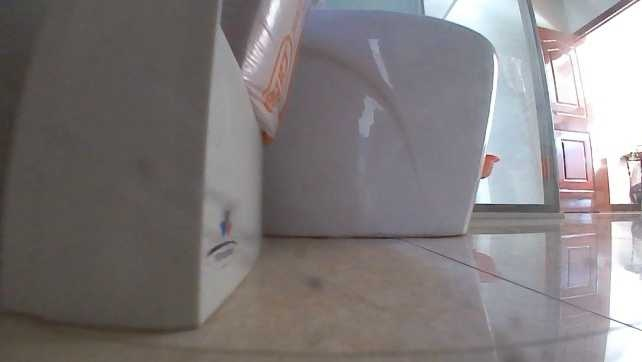door_anno: (535, 22, 603, 213)
toilet: (255, 0, 500, 239)
